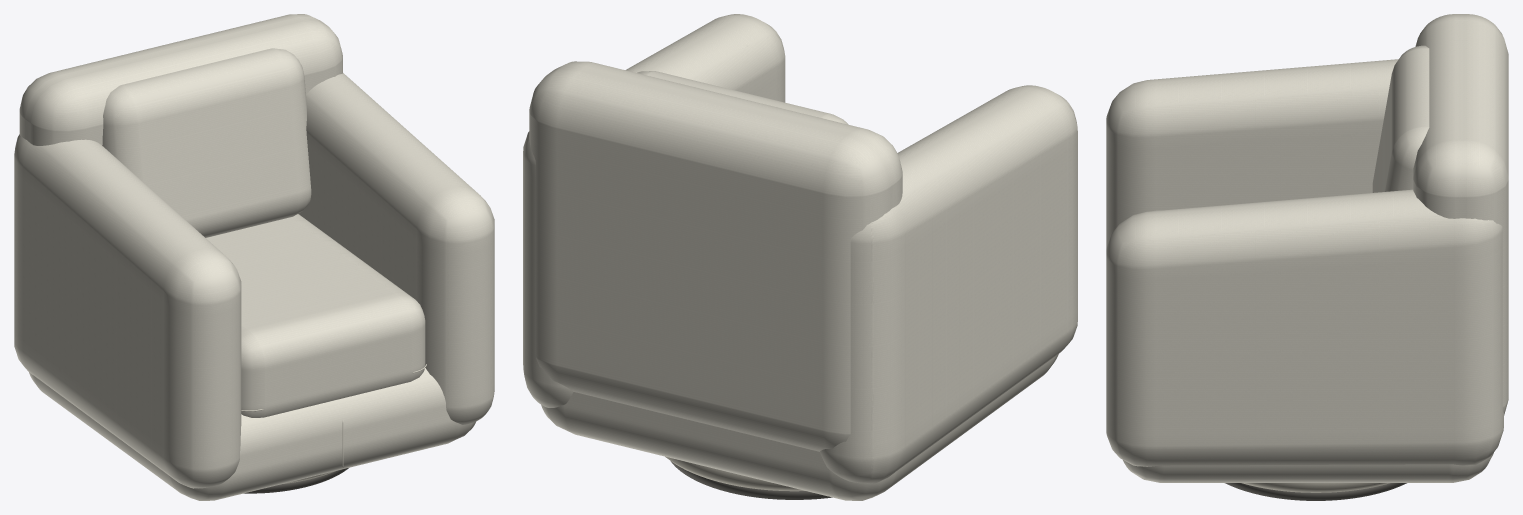
The picture shows the model from 3 angles, left to right: view 1: azimuth 30°, elevation 25°; view 2: azimuth 150°, elevation 25°; view 3: azimuth 270°, elevation 25°; orthographic projection. The views are drawn at different scales.
Visible parts, largest first — view 1: Left full upholstered arm, Right full upholstered arm, Soft inset back cushion, Deep loose seat cushion, Rounded lower upholstered apron, Tall curved outer back, Low dark swivel bearing; view 2: Tall curved outer back, Left full upholstered arm, Rounded lower upholstered apron, Right full upholstered arm, Soft inset back cushion, Rounded fabric swivel pedestal, Low dark swivel bearing; view 3: Right full upholstered arm, Left full upholstered arm, Tall curved outer back, Rounded lower upholstered apron, Soft inset back cushion, Low dark swivel bearing, Rounded fabric swivel pedestal.
Part boxes in pixels (bbox=[...]): Left full upholstered arm: bbox=[14, 134, 241, 488]; Right full upholstered arm: bbox=[298, 73, 494, 424]; Soft inset back cushion: bbox=[102, 48, 311, 237]; Deep loose seat cushion: bbox=[206, 214, 425, 417]; Rounded lower upholstered apron: bbox=[29, 368, 476, 500]; Tall curved outer back: bbox=[19, 14, 342, 145]; Low dark swivel bearing: bbox=[244, 468, 348, 493]; Tall curved outer back: bbox=[529, 61, 902, 451]; Left full upholstered arm: bbox=[820, 85, 1077, 483]; Rounded lower upholstered apron: bbox=[541, 354, 1058, 500]; Right full upholstered arm: bbox=[523, 14, 785, 407]; Soft inset back cushion: bbox=[637, 71, 848, 124]; Rounded fabric swivel pedestal: bbox=[665, 456, 804, 491]; Low dark swivel bearing: bbox=[670, 461, 832, 499]; Right full upholstered arm: bbox=[1106, 189, 1503, 466]; Left full upholstered arm: bbox=[1106, 59, 1398, 248]; Tall curved outer back: bbox=[1413, 14, 1508, 415]; Rounded lower upholstered apron: bbox=[1123, 452, 1493, 482]; Soft inset back cushion: bbox=[1372, 45, 1429, 192]; Low dark swivel bearing: bbox=[1225, 483, 1406, 500]; Rounded fabric swivel pedestal: bbox=[1242, 483, 1389, 492].
Size of the model in its own units: 0.8382 by 0.8636 by 0.8509.
Materials: 5 (4 with a texture image).
